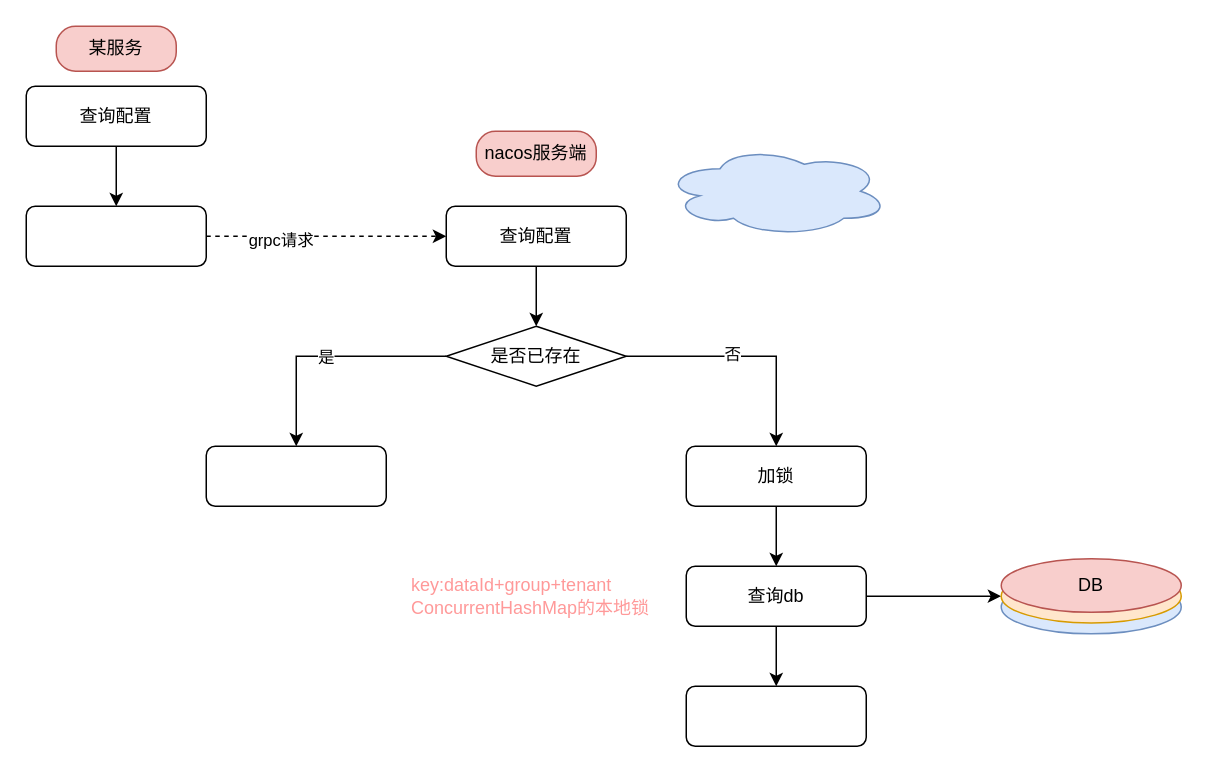
Image size: 1208x773. Some labels were removed from this diagram. The centre of each missing label's shape, as x and y in pixels:
configController: [775,190]
RpcClinet: [115,235]
查询缓存: [295,475]
解锁: [775,715]
